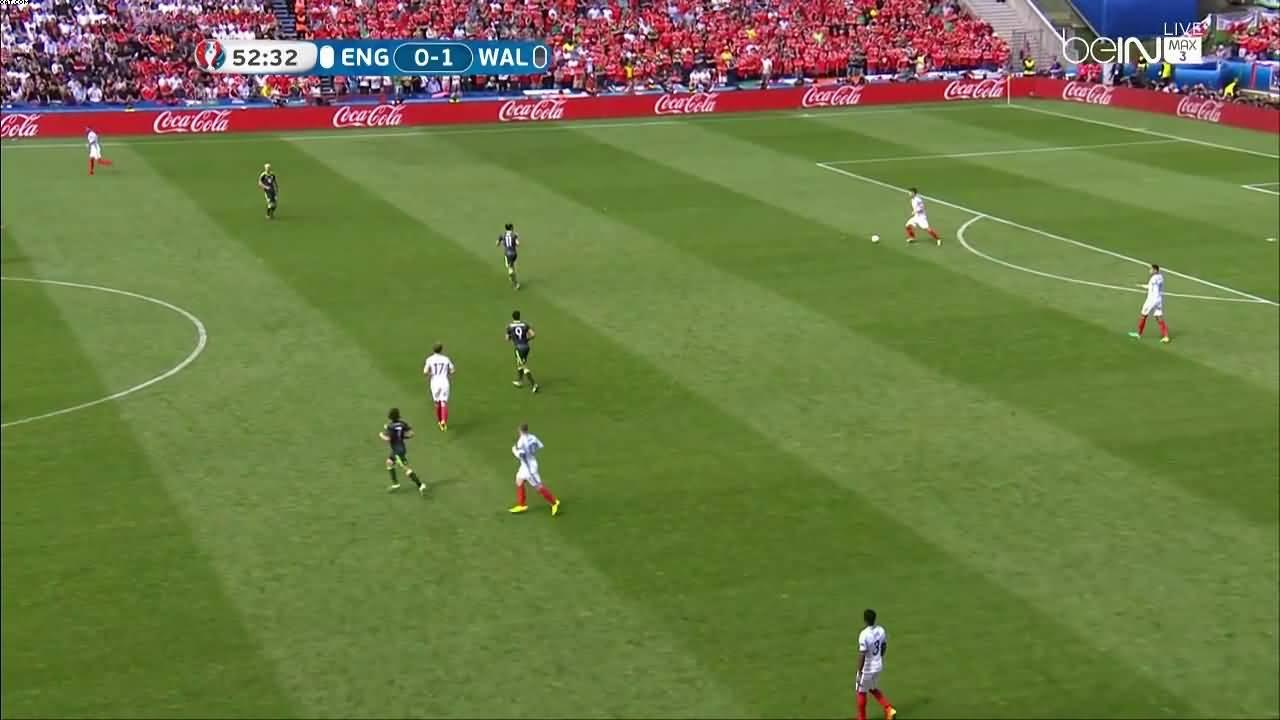ball: (871, 234, 880, 243)
player: (853, 608, 897, 720), (510, 424, 562, 518), (378, 406, 425, 496), (1128, 263, 1170, 343), (423, 342, 455, 432), (505, 309, 538, 393), (905, 187, 943, 247), (497, 222, 520, 289), (85, 126, 110, 175), (258, 163, 279, 218)
